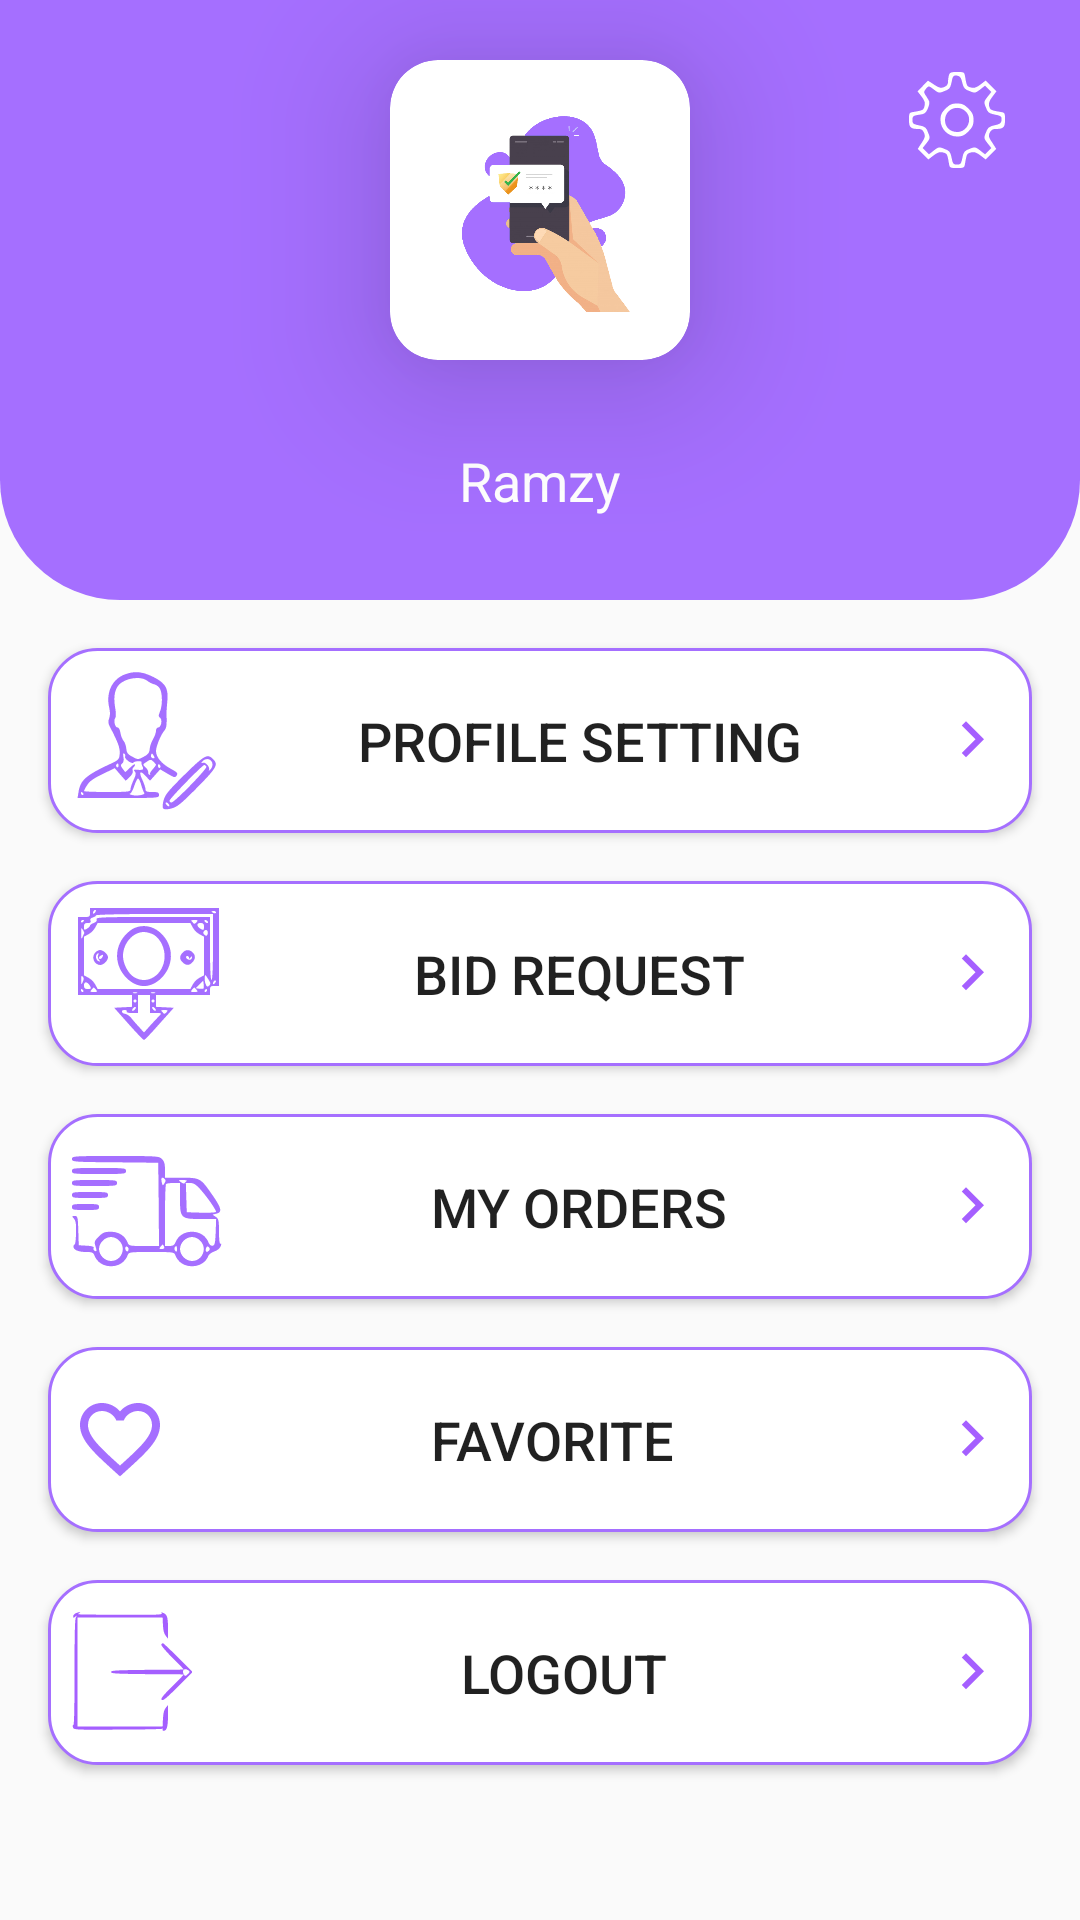

Locate icon controls on the screen. Image size 1080 × 1920, boxes as (x1, y1, x2, y2).
setting: (909, 72, 1005, 168)
